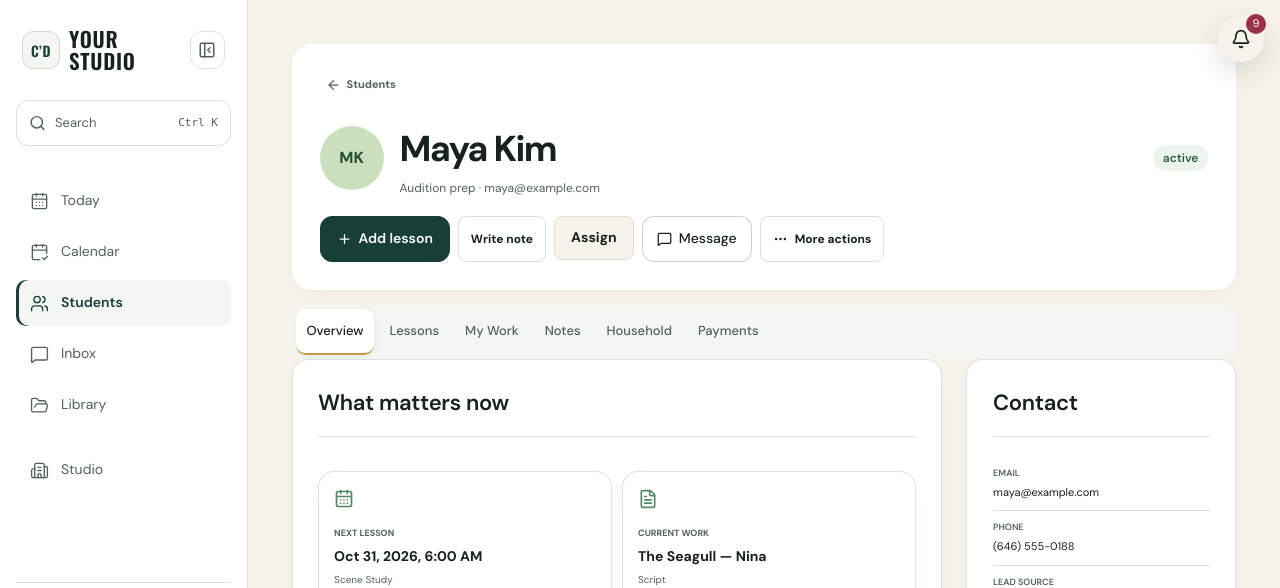
Test: 50 start-to-finish studio workflows › coach — 20 workflows › 06 schedules a lesson from the student record
The width and height of the screenshot is (1280, 588).
Click the button "Add lesson" at (385, 239), box [320,216,450,262]
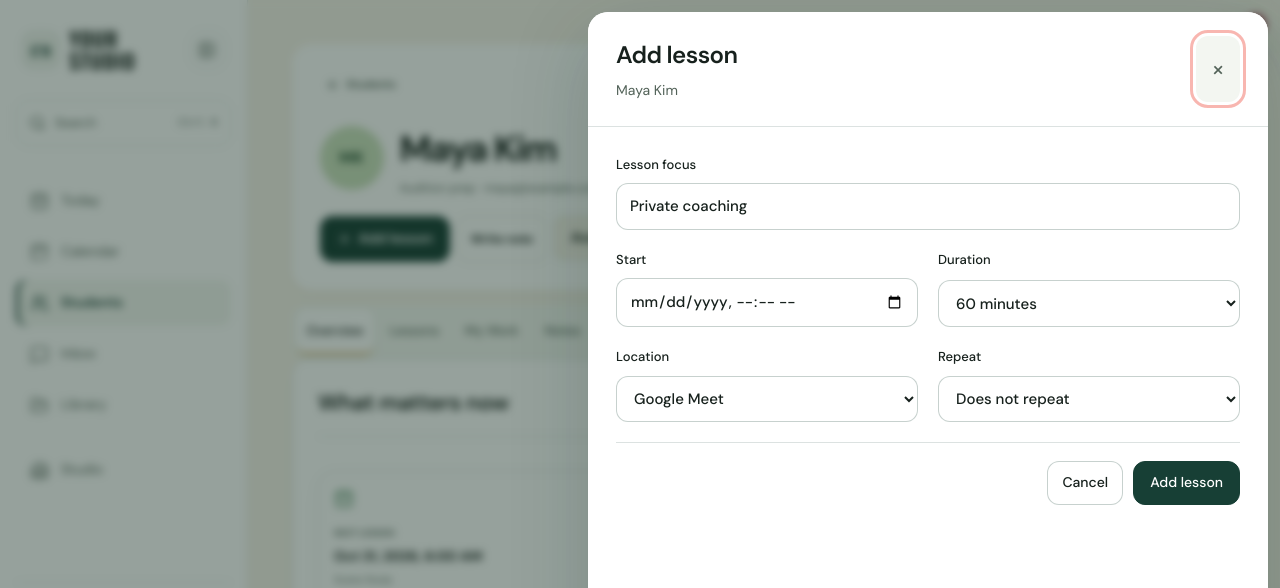
Replace the text in the field labelled "Lesson focus" with "Callback prep" at (928, 206), box [616,183,1240,230]
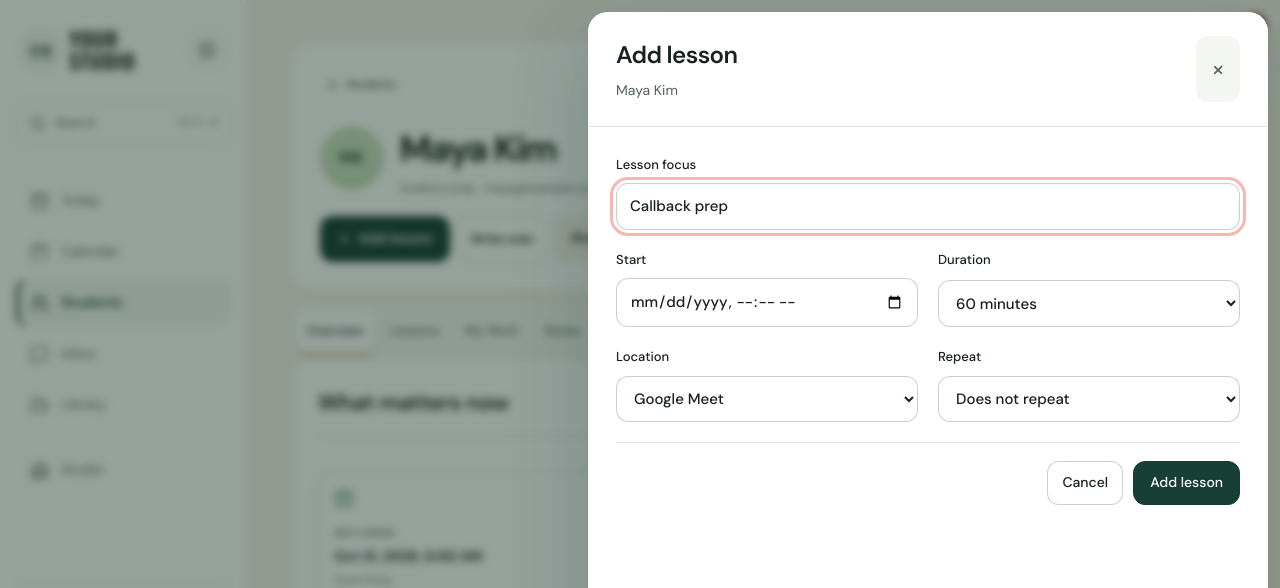
Type "2026-09-10T15:00" into the field labelled "Start" at (767, 303), box [616,278,918,327]
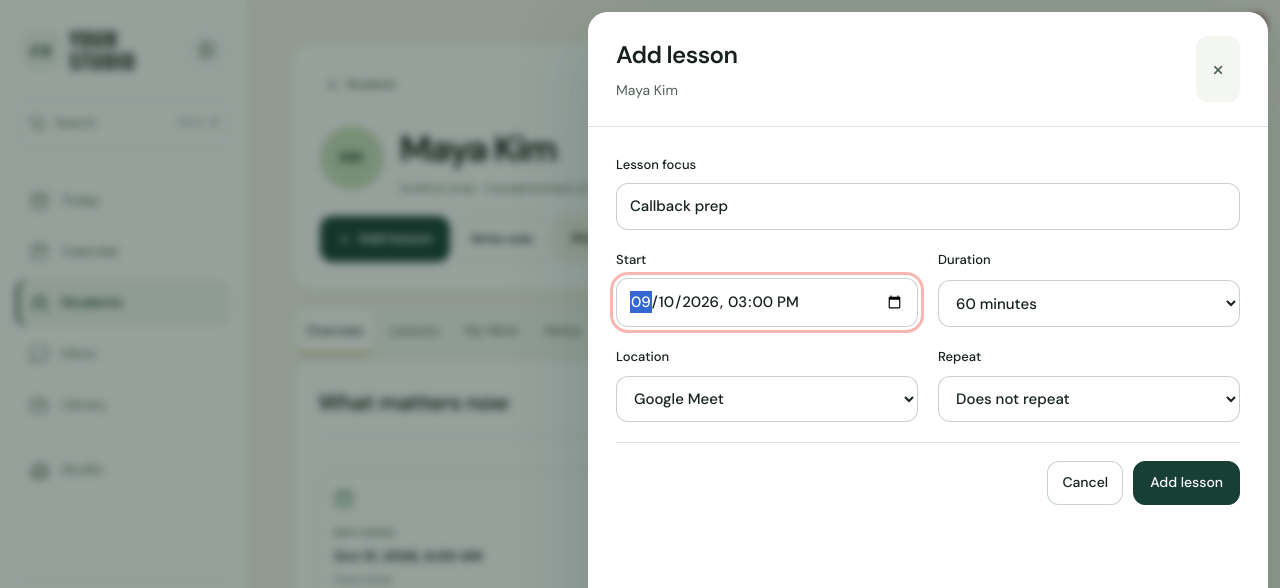
Click the button "Add lesson" at (1187, 482), box [1133,460,1240,504]
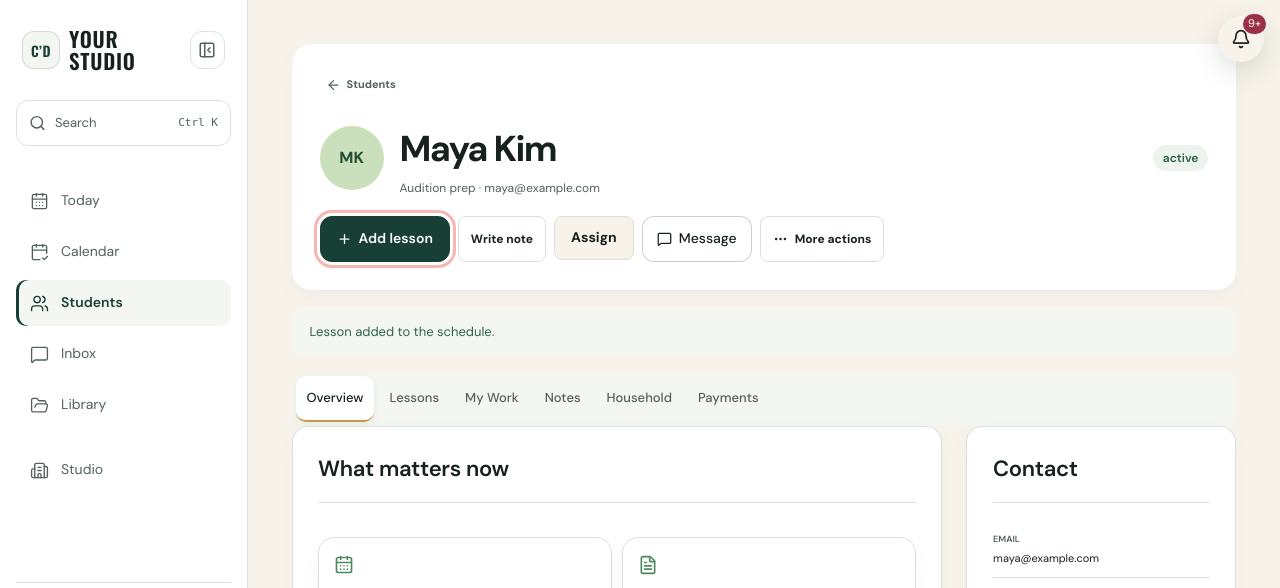
Check: the text "Lesson added to the schedule." is shown, box [292,307,1236,356]
